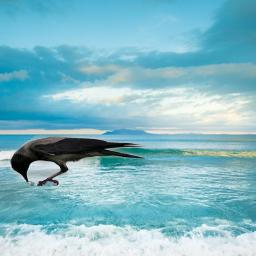Crow: (10, 135, 146, 186)
